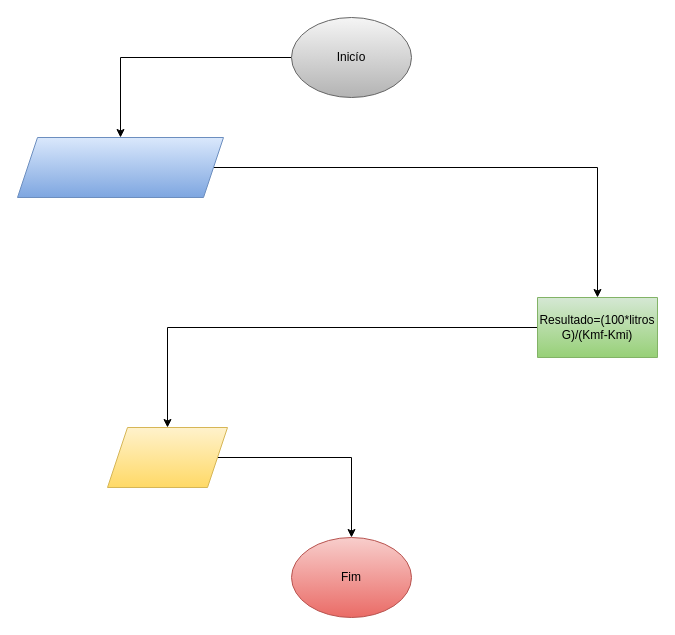
Some shapes in this 675 by 635 pixel diagram are drawn without their labels. Here are the shapes that lost their labels. From the top down, the box of each, then its label:
(16, 136, 224, 198): LER Kmi, Kmf,litros G
(106, 426, 228, 488): Escrever resultado
